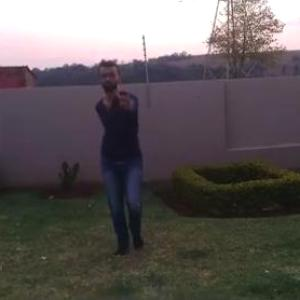takeoff-hand: (112, 78, 136, 118)
